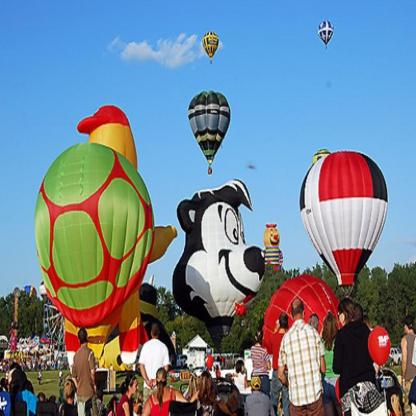face: (131, 380, 139, 396), (340, 309, 346, 327)
